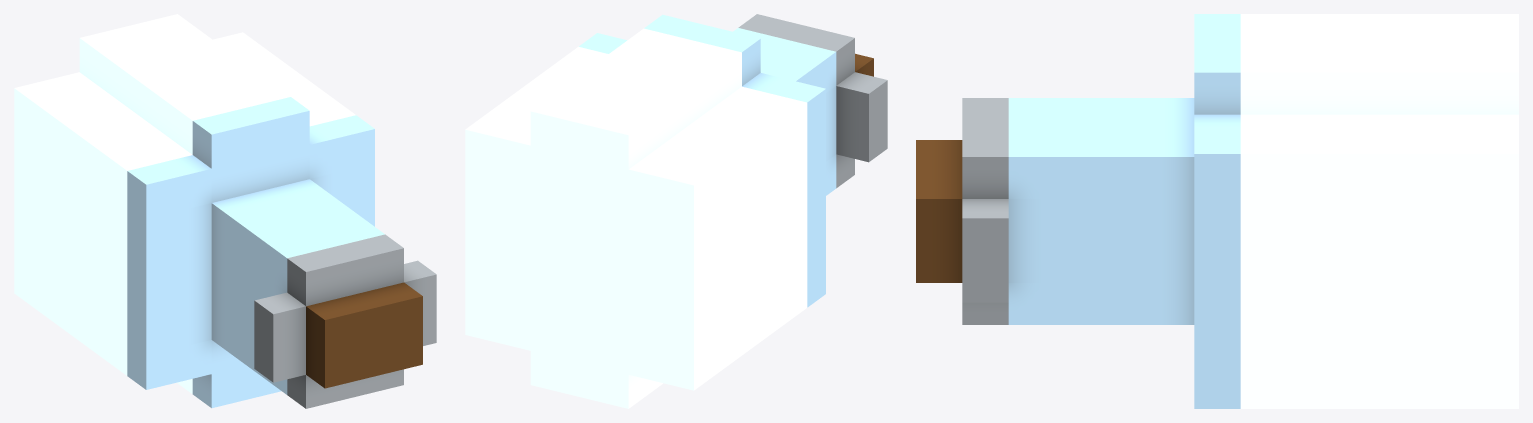
Rendered from shield.glb.
3 views of the same model, side by side, from view 1: azimuth 30°, elevation 25°; view 2: azimuth 150°, elevation 25°; view 3: azimuth 270°, elevation 25° (orthographic). The views are drawn at different scales.
Visible parts, largest first — view 1: shield_body; view 2: shield_body; view 3: shield_body.
Boxes of the visible parts, x1=… form: shield_body: x1=14, y1=14, x2=436, y2=408; shield_body: x1=465, y1=14, x2=887, y2=408; shield_body: x1=916, y1=14, x2=1518, y2=408.
Size of the model in its own units: 0.2734 by 0.3125 by 0.5078.
Materials: 1 (1 with a texture image).
